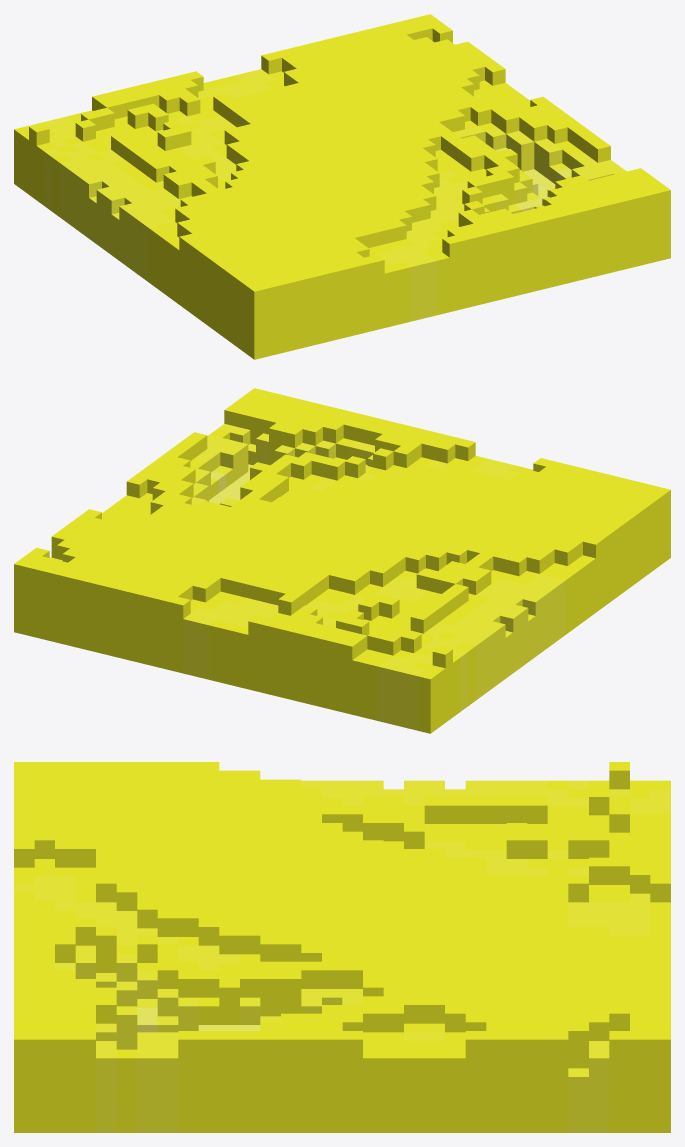
Rendered from Destert Map-3.obj.
3 renders of one model, top to bottom at view 1: azimuth 30°, elevation 25°; view 2: azimuth 150°, elevation 25°; view 3: azimuth 270°, elevation 25°, orthographic. The views are drawn at different scales.
Bounding box in the file's own units: 3.2 × 0.5 × 3.2.
1 material, 1 textured.
